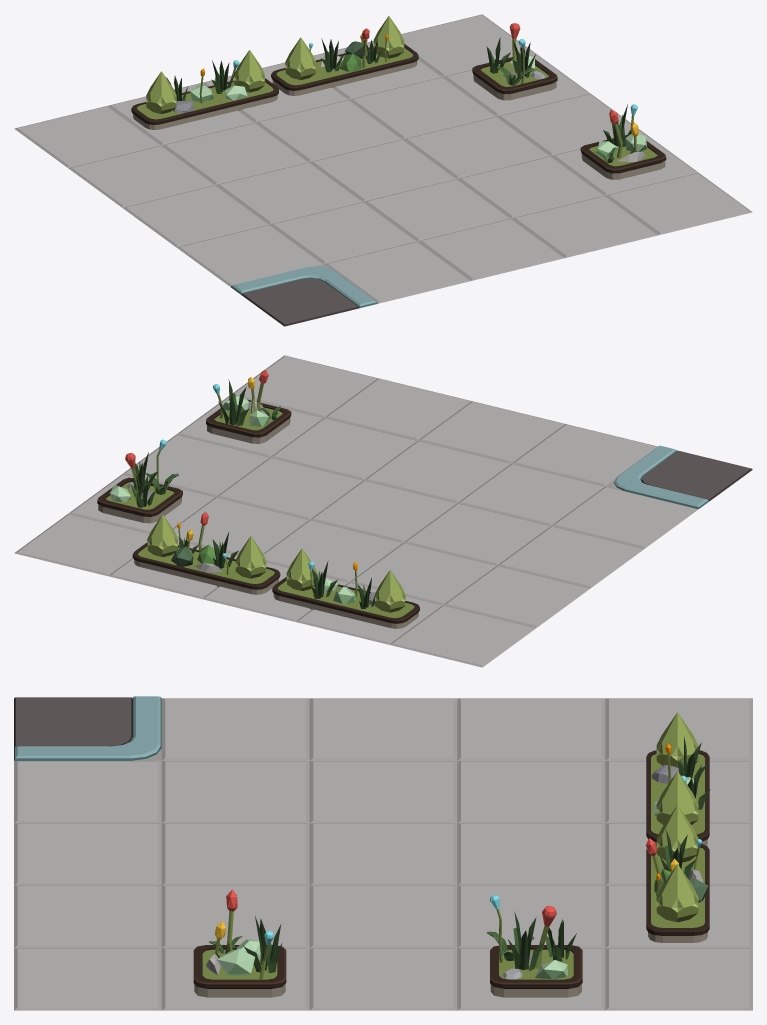
Rendered from OpenFork_C.glb.
3 views of the same model, one above another, from view 1: azimuth 30°, elevation 25°; view 2: azimuth 150°, elevation 25°; view 3: azimuth 270°, elevation 25° (orthographic). The views are drawn at different scales.
Visible parts, largest first — view 1: OpenFork_C, Cube.242, Cube.241, Cube.237, Cube.236, Cone.033, Cone.030, Cone.032, Cone.031; view 2: OpenFork_C, Cube.241, Cube.242, Cube.237, Cube.236, Cone.030, Cone.033, Cone.031, Cone.032, Grass_03.561; view 3: OpenFork_C, Cube.237, Cube.236, Cube.242, Cube.241, Cone.031, Cone.030, Cone.033, Cone.032, Grass_03.563, Grass_03.561, Tree_03.1417 (+3 smaller).
Part boxes in pixels (bbox=[...]): OpenFork_C: bbox=[14, 14, 752, 326]; Cube.242: bbox=[271, 44, 418, 95]; Cube.241: bbox=[131, 78, 278, 129]; Cube.237: bbox=[472, 57, 557, 100]; Cube.236: bbox=[580, 135, 666, 179]; Cone.033: bbox=[146, 71, 176, 113]; Cone.030: bbox=[285, 37, 315, 79]; Cone.032: bbox=[234, 50, 264, 92]; Cone.031: bbox=[373, 16, 404, 58]; OpenFork_C: bbox=[14, 355, 752, 667]; Cube.241: bbox=[272, 577, 419, 628]; Cube.242: bbox=[132, 542, 280, 594]; Cube.237: bbox=[97, 477, 182, 523]; Cube.236: bbox=[206, 399, 291, 443]; Cone.030: bbox=[235, 536, 266, 578]; Cone.033: bbox=[375, 570, 405, 612]; Cone.031: bbox=[147, 514, 177, 557]; Cone.032: bbox=[286, 548, 317, 590]; Grass_03.561: bbox=[218, 379, 249, 426]; OpenFork_C: bbox=[14, 696, 752, 1010]; Cube.237: bbox=[490, 945, 582, 997]; Cube.236: bbox=[193, 945, 286, 997]; Cube.242: bbox=[646, 843, 709, 942]; Cube.241: bbox=[646, 750, 709, 845]; Cone.031: bbox=[656, 864, 698, 922]; Cone.030: bbox=[656, 805, 698, 862]; Cone.033: bbox=[656, 712, 698, 767]; Cone.032: bbox=[656, 771, 698, 824]; Grass_03.563: bbox=[508, 911, 544, 970]; Grass_03.561: bbox=[243, 916, 282, 972]; Tree_03.1417: bbox=[217, 949, 255, 975].
Size of what is drawn, in the model's own units: 16 by 1.99 by 16.
1 material, 1 textured.
